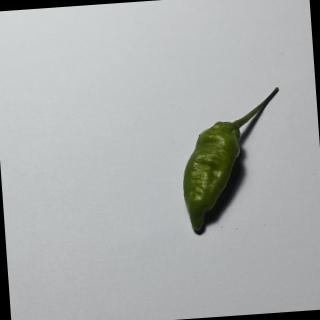Cabai Hijau: (169, 82, 298, 242)
